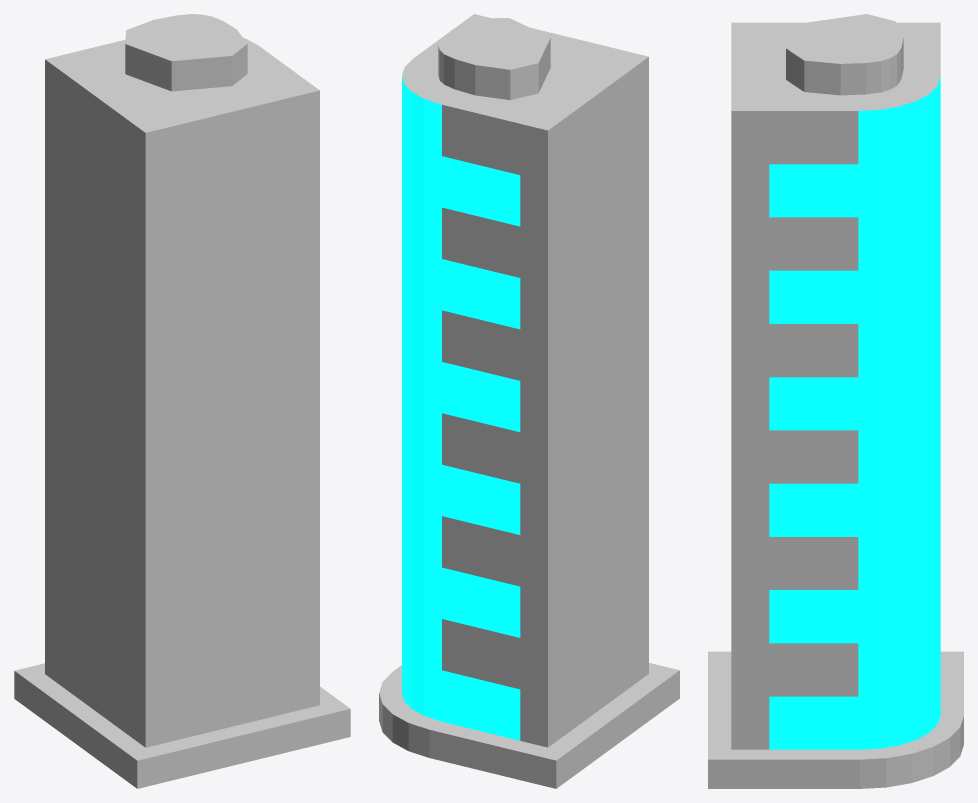
Rendered from gameTowerThree.fbx.
The picture shows the model from 3 angles, left to right: view 1: azimuth 30°, elevation 25°; view 2: azimuth 150°, elevation 25°; view 3: azimuth 270°, elevation 25°; orthographic projection. The views are drawn at different scales.
Parts seen in each view (by area): view 1: Cube; view 2: Cube; view 3: Cube.
Boxes of the visible parts, x1,y1,x2,y2 form: Cube: [14, 14, 350, 788]; Cube: [379, 14, 679, 788]; Cube: [708, 14, 963, 788].
Bounding box in the file's own units: 1389 × 1389 × 4192.
